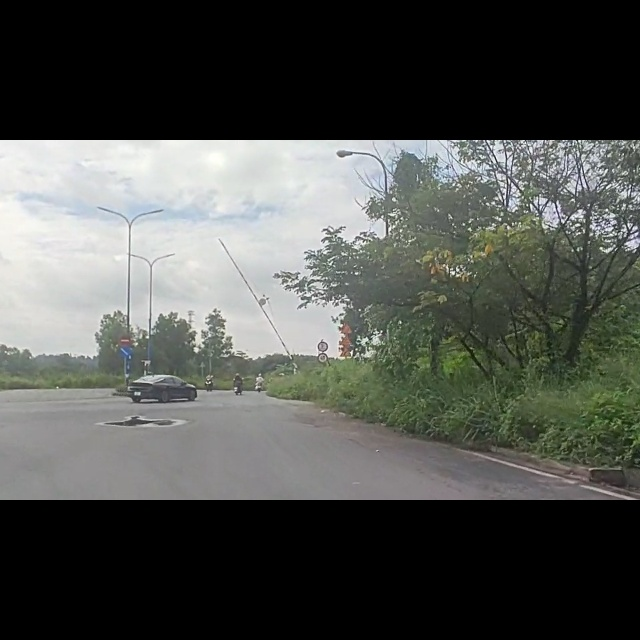bien_cam: (117, 364, 134, 390), (338, 367, 356, 388), (316, 376, 331, 397), (119, 347, 131, 367)
